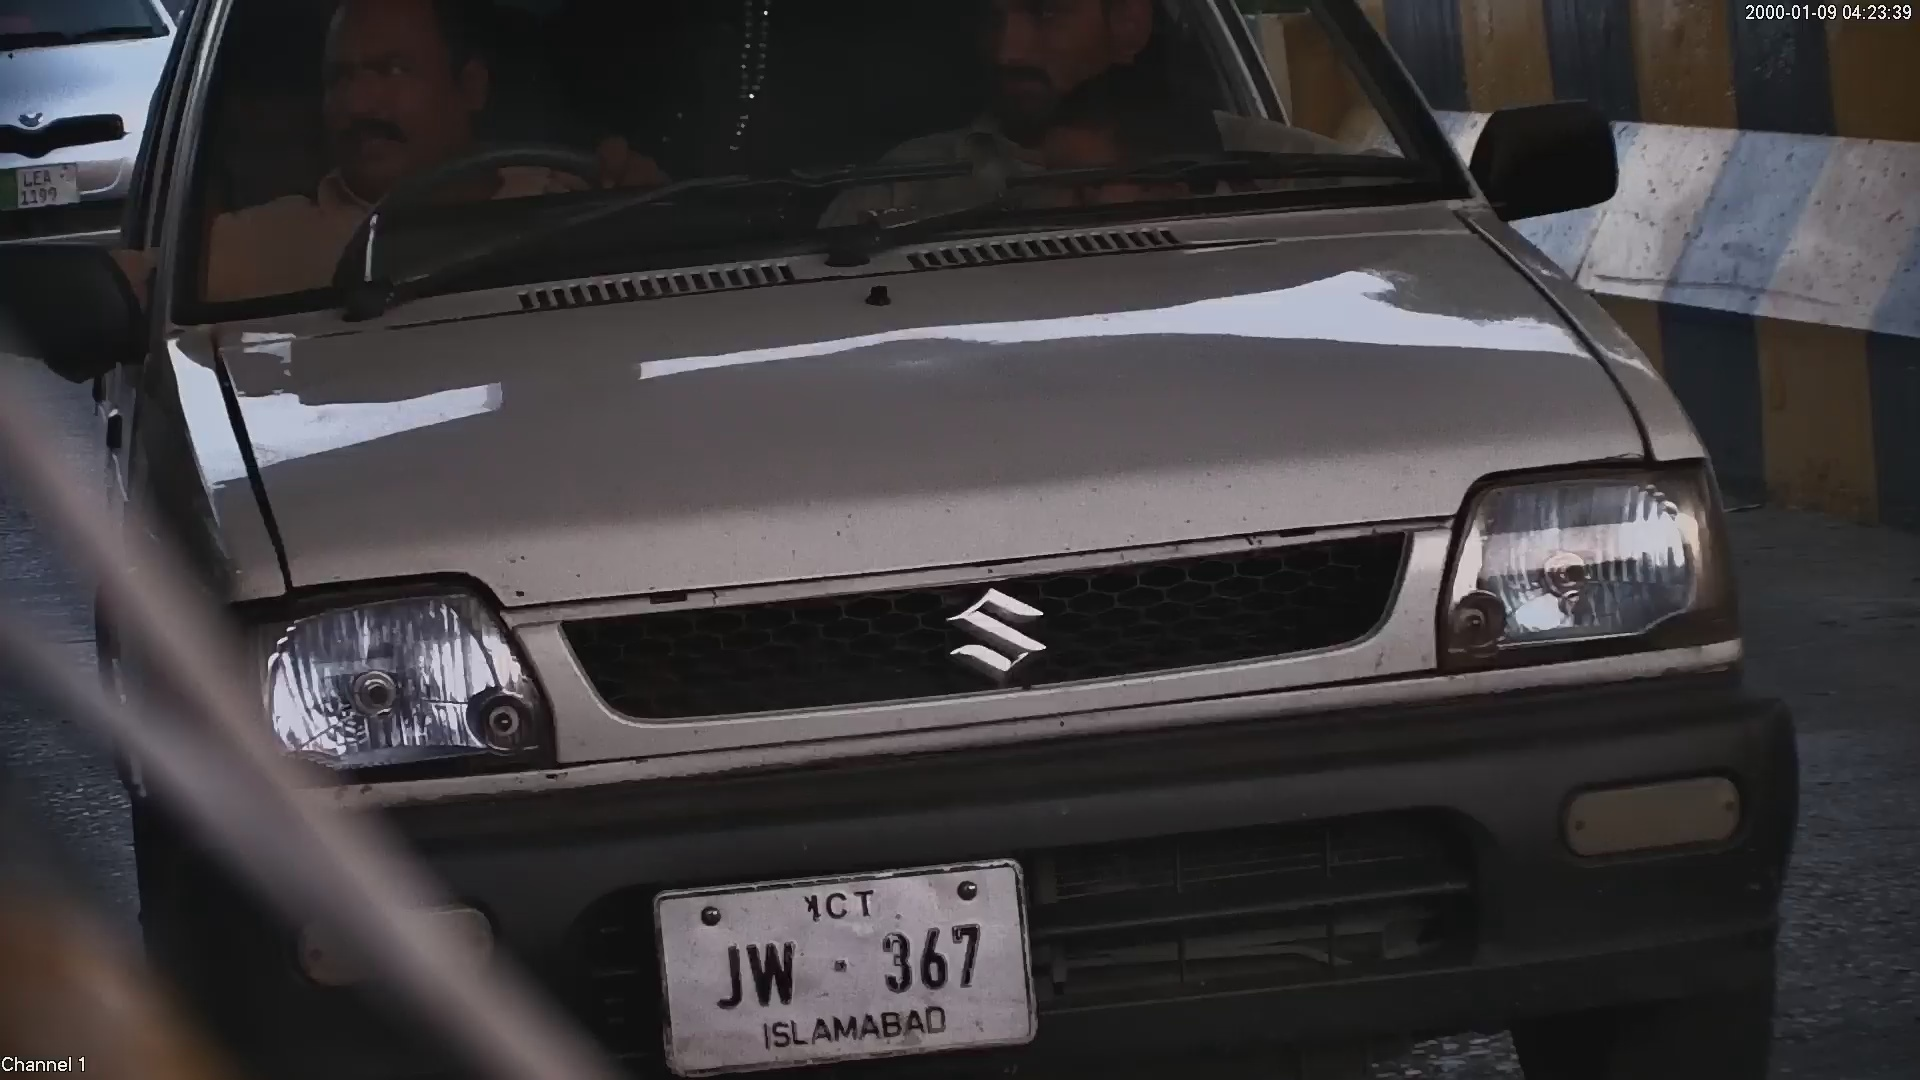Number_Plate: (639, 849, 1047, 1075)
Undefined: (1443, 449, 1715, 657), (241, 601, 530, 775), (1554, 757, 1743, 859), (932, 573, 1043, 686)
